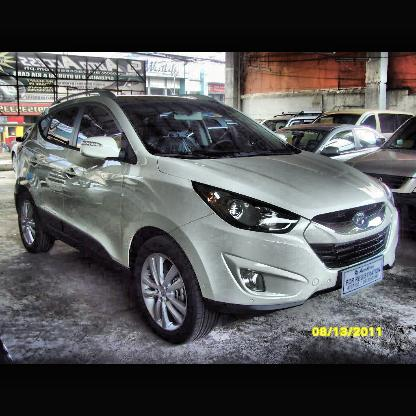Hyundai Tucson SUV 2012: (13, 89, 405, 344)
